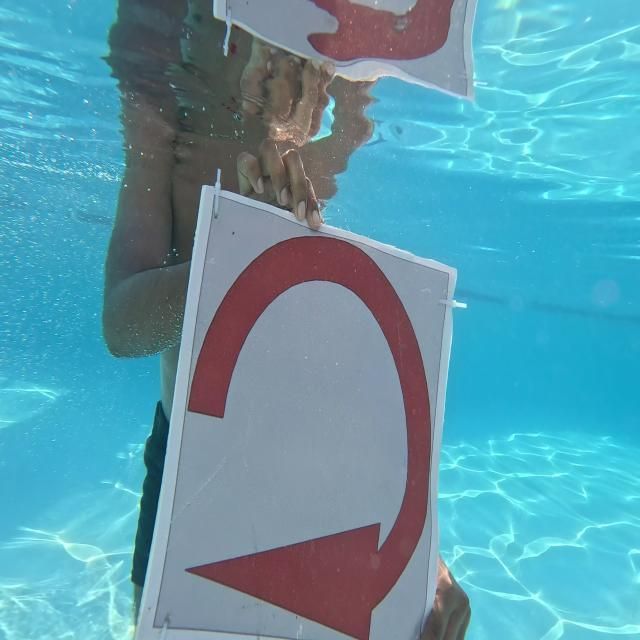red_side: (154, 162, 432, 640)
